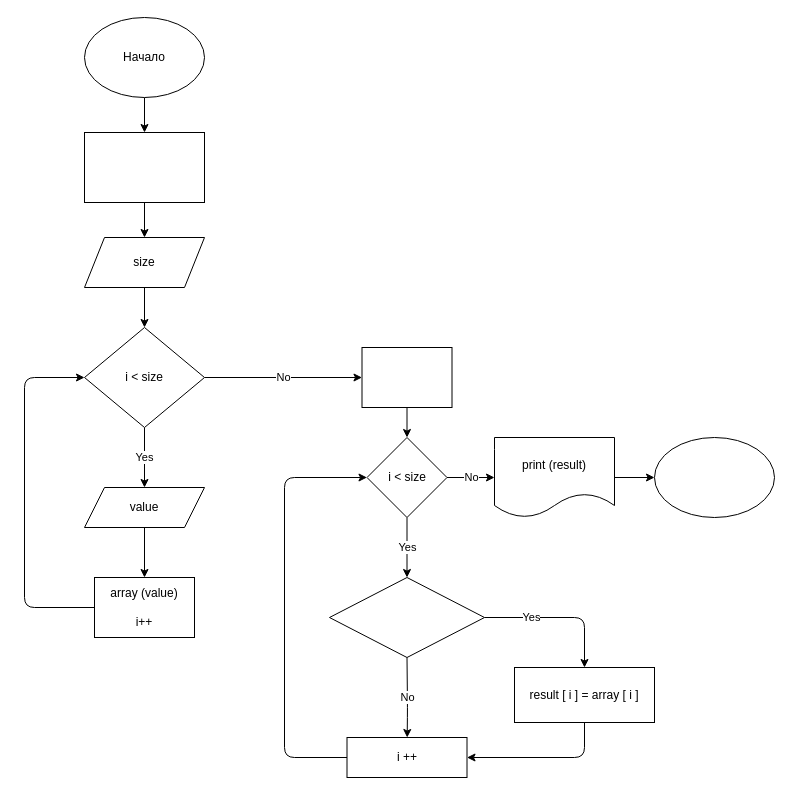
The diagram is 792 pixels wide and 795 high, and some of its shapes have lost their labels. Each missing label, with the centre of its shape:
"array [ i ].length] <= 3" goes at [406,617].
"i = 0 result = [ ]" goes at [406,377].
"size array = [ size ] value i = 0" goes at [144,167].
"Конец" goes at [714,477].
